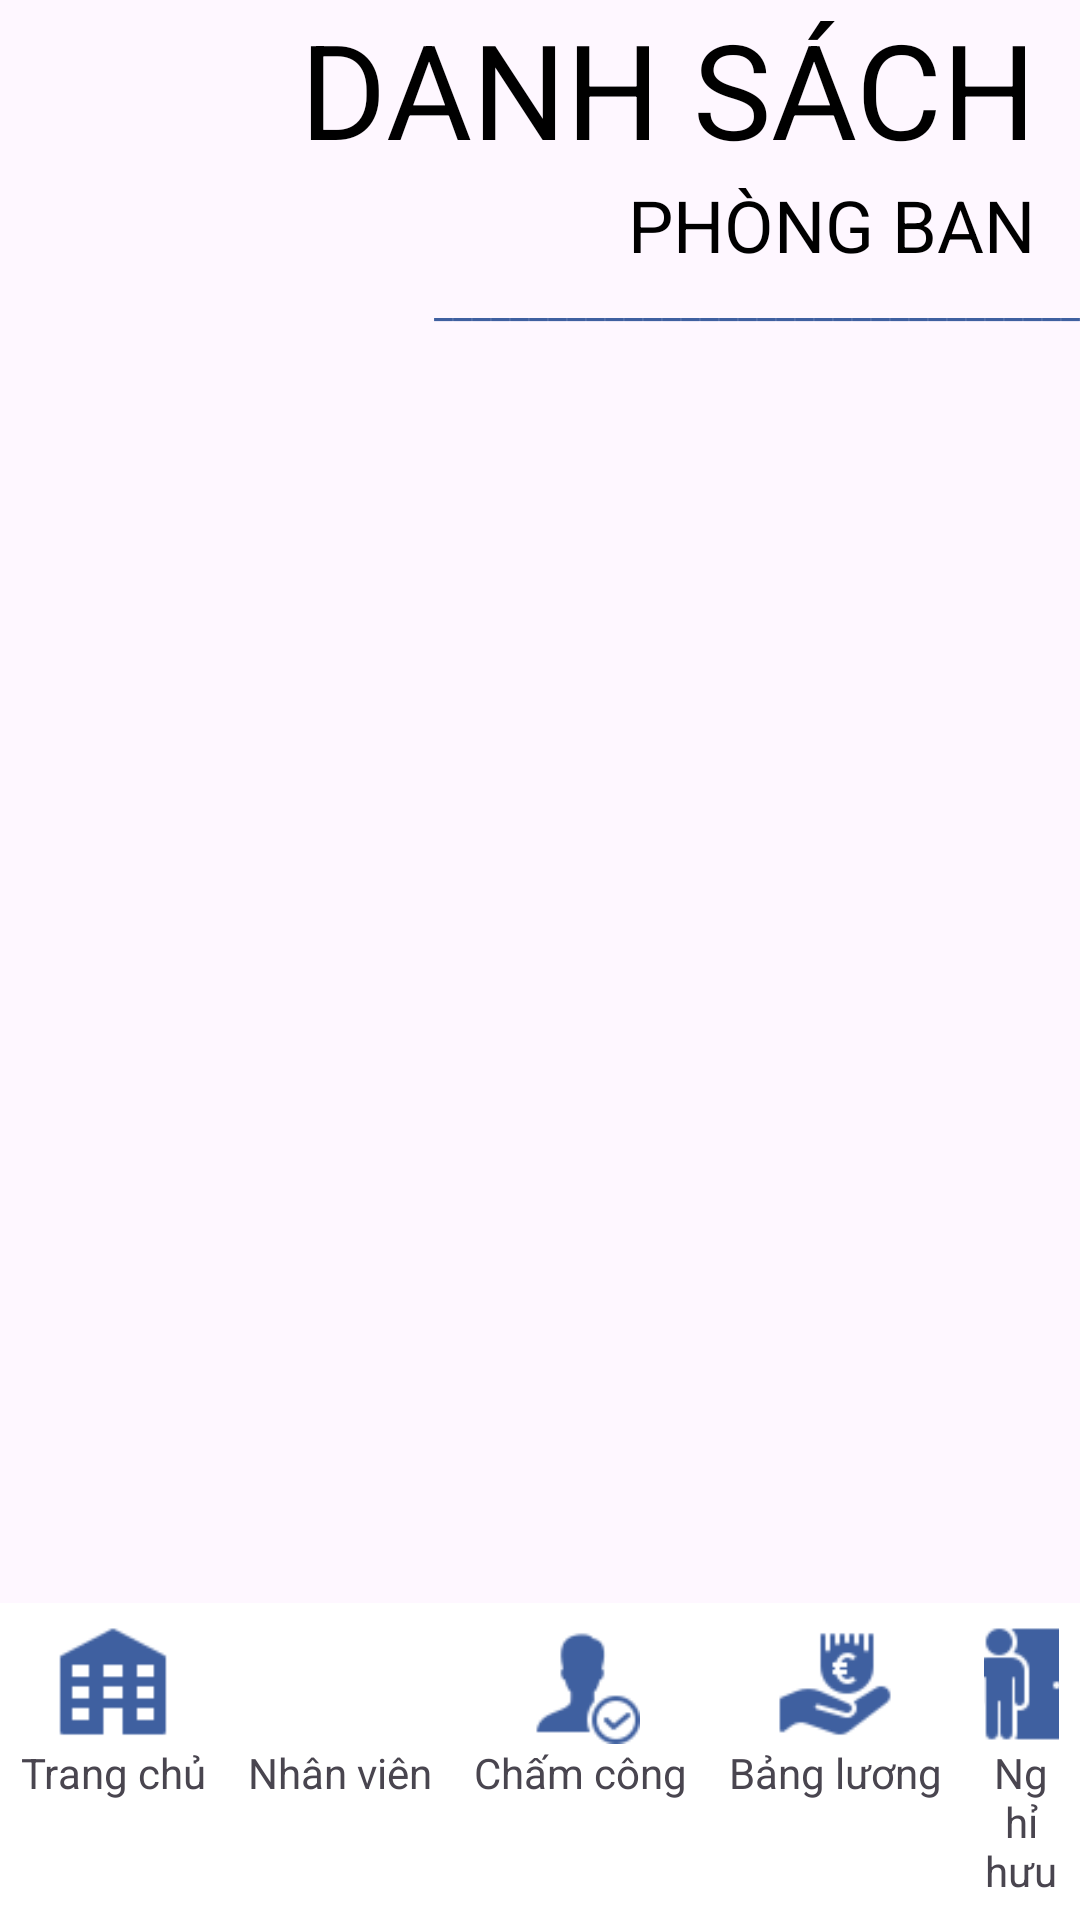

Where icons sit on this 1080 × 1920 app screen, as (x1=x1, y1=y1, x2=x2, y2=y2):
phongban: (x1=59, y1=1628, x2=167, y2=1735)
